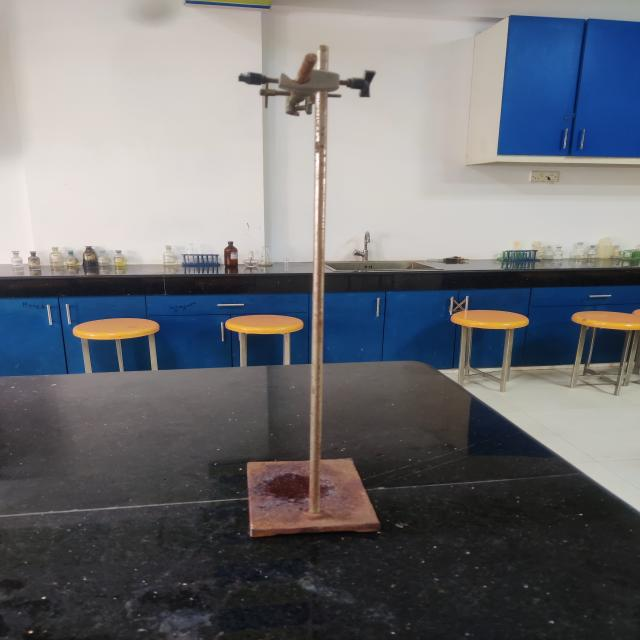Burette_Stands: (207, 30, 403, 562)
